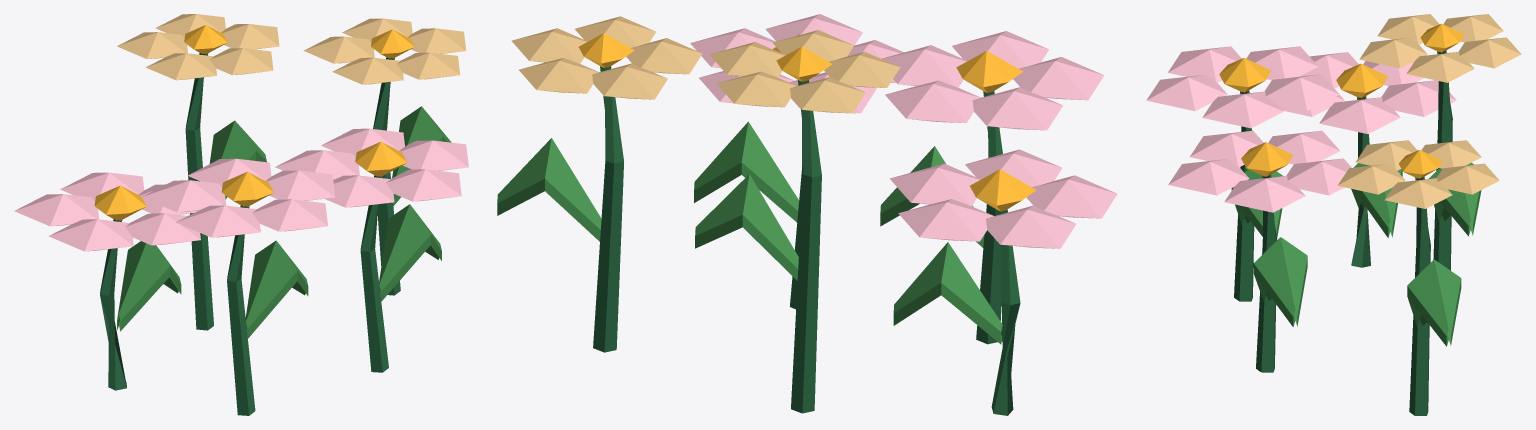
Rendered from FloresSilvestres.fbx.
The picture shows the model from 3 angles, left to right: view 1: azimuth 30°, elevation 25°; view 2: azimuth 150°, elevation 25°; view 3: azimuth 270°, elevation 25°; orthographic projection. The views are drawn at different scales.
Parts seen in each view (by area): view 1: FloresSilvestres_Folha_3, FloresSilvestres_Folha_5, FloresSilvestres_Folha_2, FloresSilvestres_Folha_1, FloresSilvestres_Folha_4; view 2: FloresSilvestres_Folha_3, FloresSilvestres_Folha_5, FloresSilvestres_Folha_2, FloresSilvestres_Folha_1, FloresSilvestres_Folha_4; view 3: FloresSilvestres_Folha_3, FloresSilvestres_Folha_5, FloresSilvestres_Folha_2, FloresSilvestres_Folha_1, FloresSilvestres_Folha_4.
Part boxes in pixels (x1,y1,x2,y2): FloresSilvestres_Folha_3: (14, 128, 468, 251); FloresSilvestres_Folha_5: (117, 14, 466, 84); FloresSilvestres_Folha_2: (117, 106, 451, 338); FloresSilvestres_Folha_1: (100, 53, 400, 415); FloresSilvestres_Folha_4: (94, 25, 414, 220); FloresSilvestres_Folha_3: (690, 14, 1117, 248); FloresSilvestres_Folha_5: (511, 16, 900, 113); FloresSilvestres_Folha_2: (497, 121, 1002, 344); FloresSilvestres_Folha_1: (593, 66, 1020, 415); FloresSilvestres_Folha_4: (578, 33, 1036, 211); FloresSilvestres_Folha_3: (1146, 46, 1456, 212); FloresSilvestres_Folha_5: (1337, 14, 1521, 208); FloresSilvestres_Folha_2: (1231, 162, 1481, 346); FloresSilvestres_Folha_1: (1234, 50, 1452, 415); FloresSilvestres_Folha_4: (1219, 23, 1464, 178).
Size of the model in its own units: 362 by 230 by 257.
